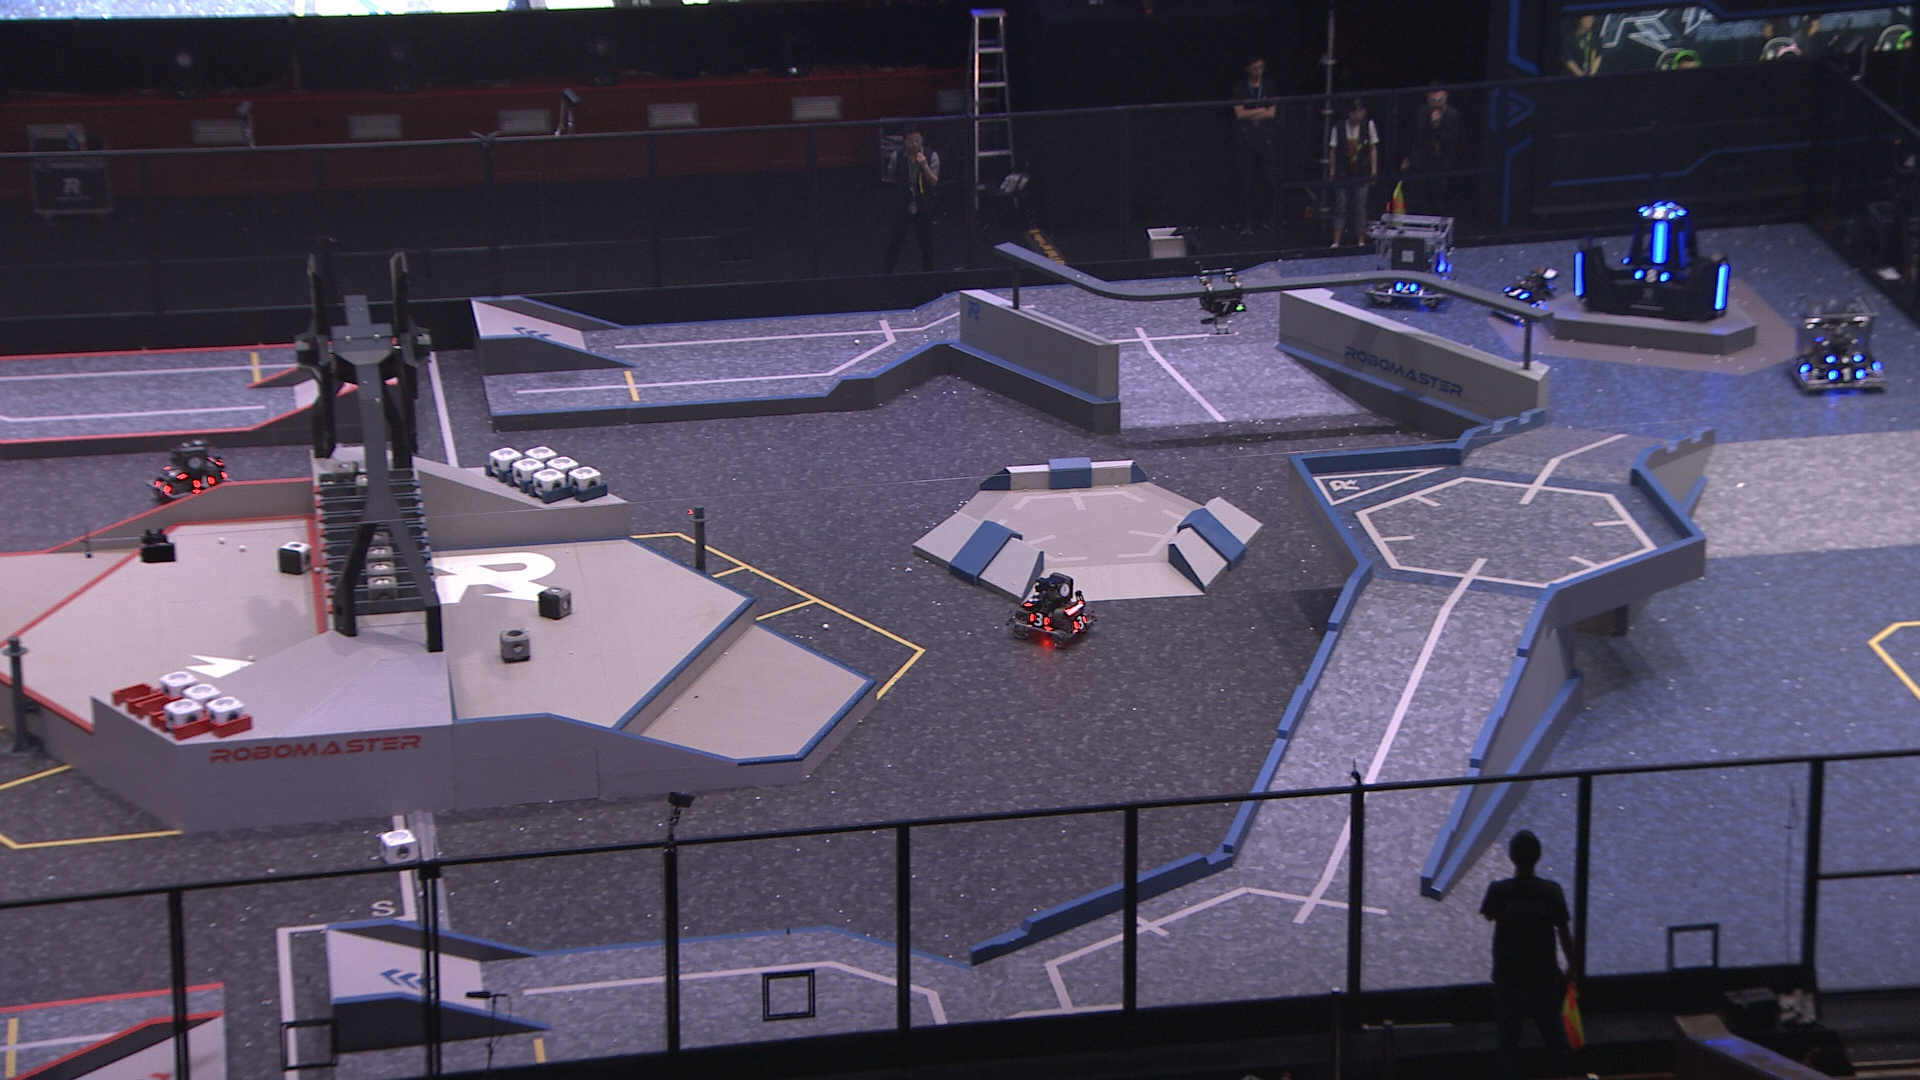armor: (1647, 224, 1673, 262), (1712, 262, 1730, 314), (1571, 248, 1588, 299), (1642, 204, 1680, 223), (1828, 367, 1866, 385), (1633, 266, 1673, 284), (1820, 351, 1865, 365), (1211, 297, 1244, 315), (1676, 229, 1692, 268), (1503, 282, 1532, 301), (1394, 276, 1419, 295), (191, 472, 218, 489), (1793, 353, 1815, 375), (1027, 611, 1051, 628), (1527, 295, 1549, 313), (152, 476, 171, 495), (161, 465, 186, 480), (1667, 200, 1687, 216), (1021, 593, 1040, 609), (1072, 613, 1088, 632)
base: (1567, 195, 1731, 324)
car: (1784, 290, 1892, 394), (1362, 206, 1461, 310), (1007, 571, 1101, 651), (142, 436, 233, 501), (1490, 262, 1560, 327)
watcher: (1189, 257, 1247, 334)
